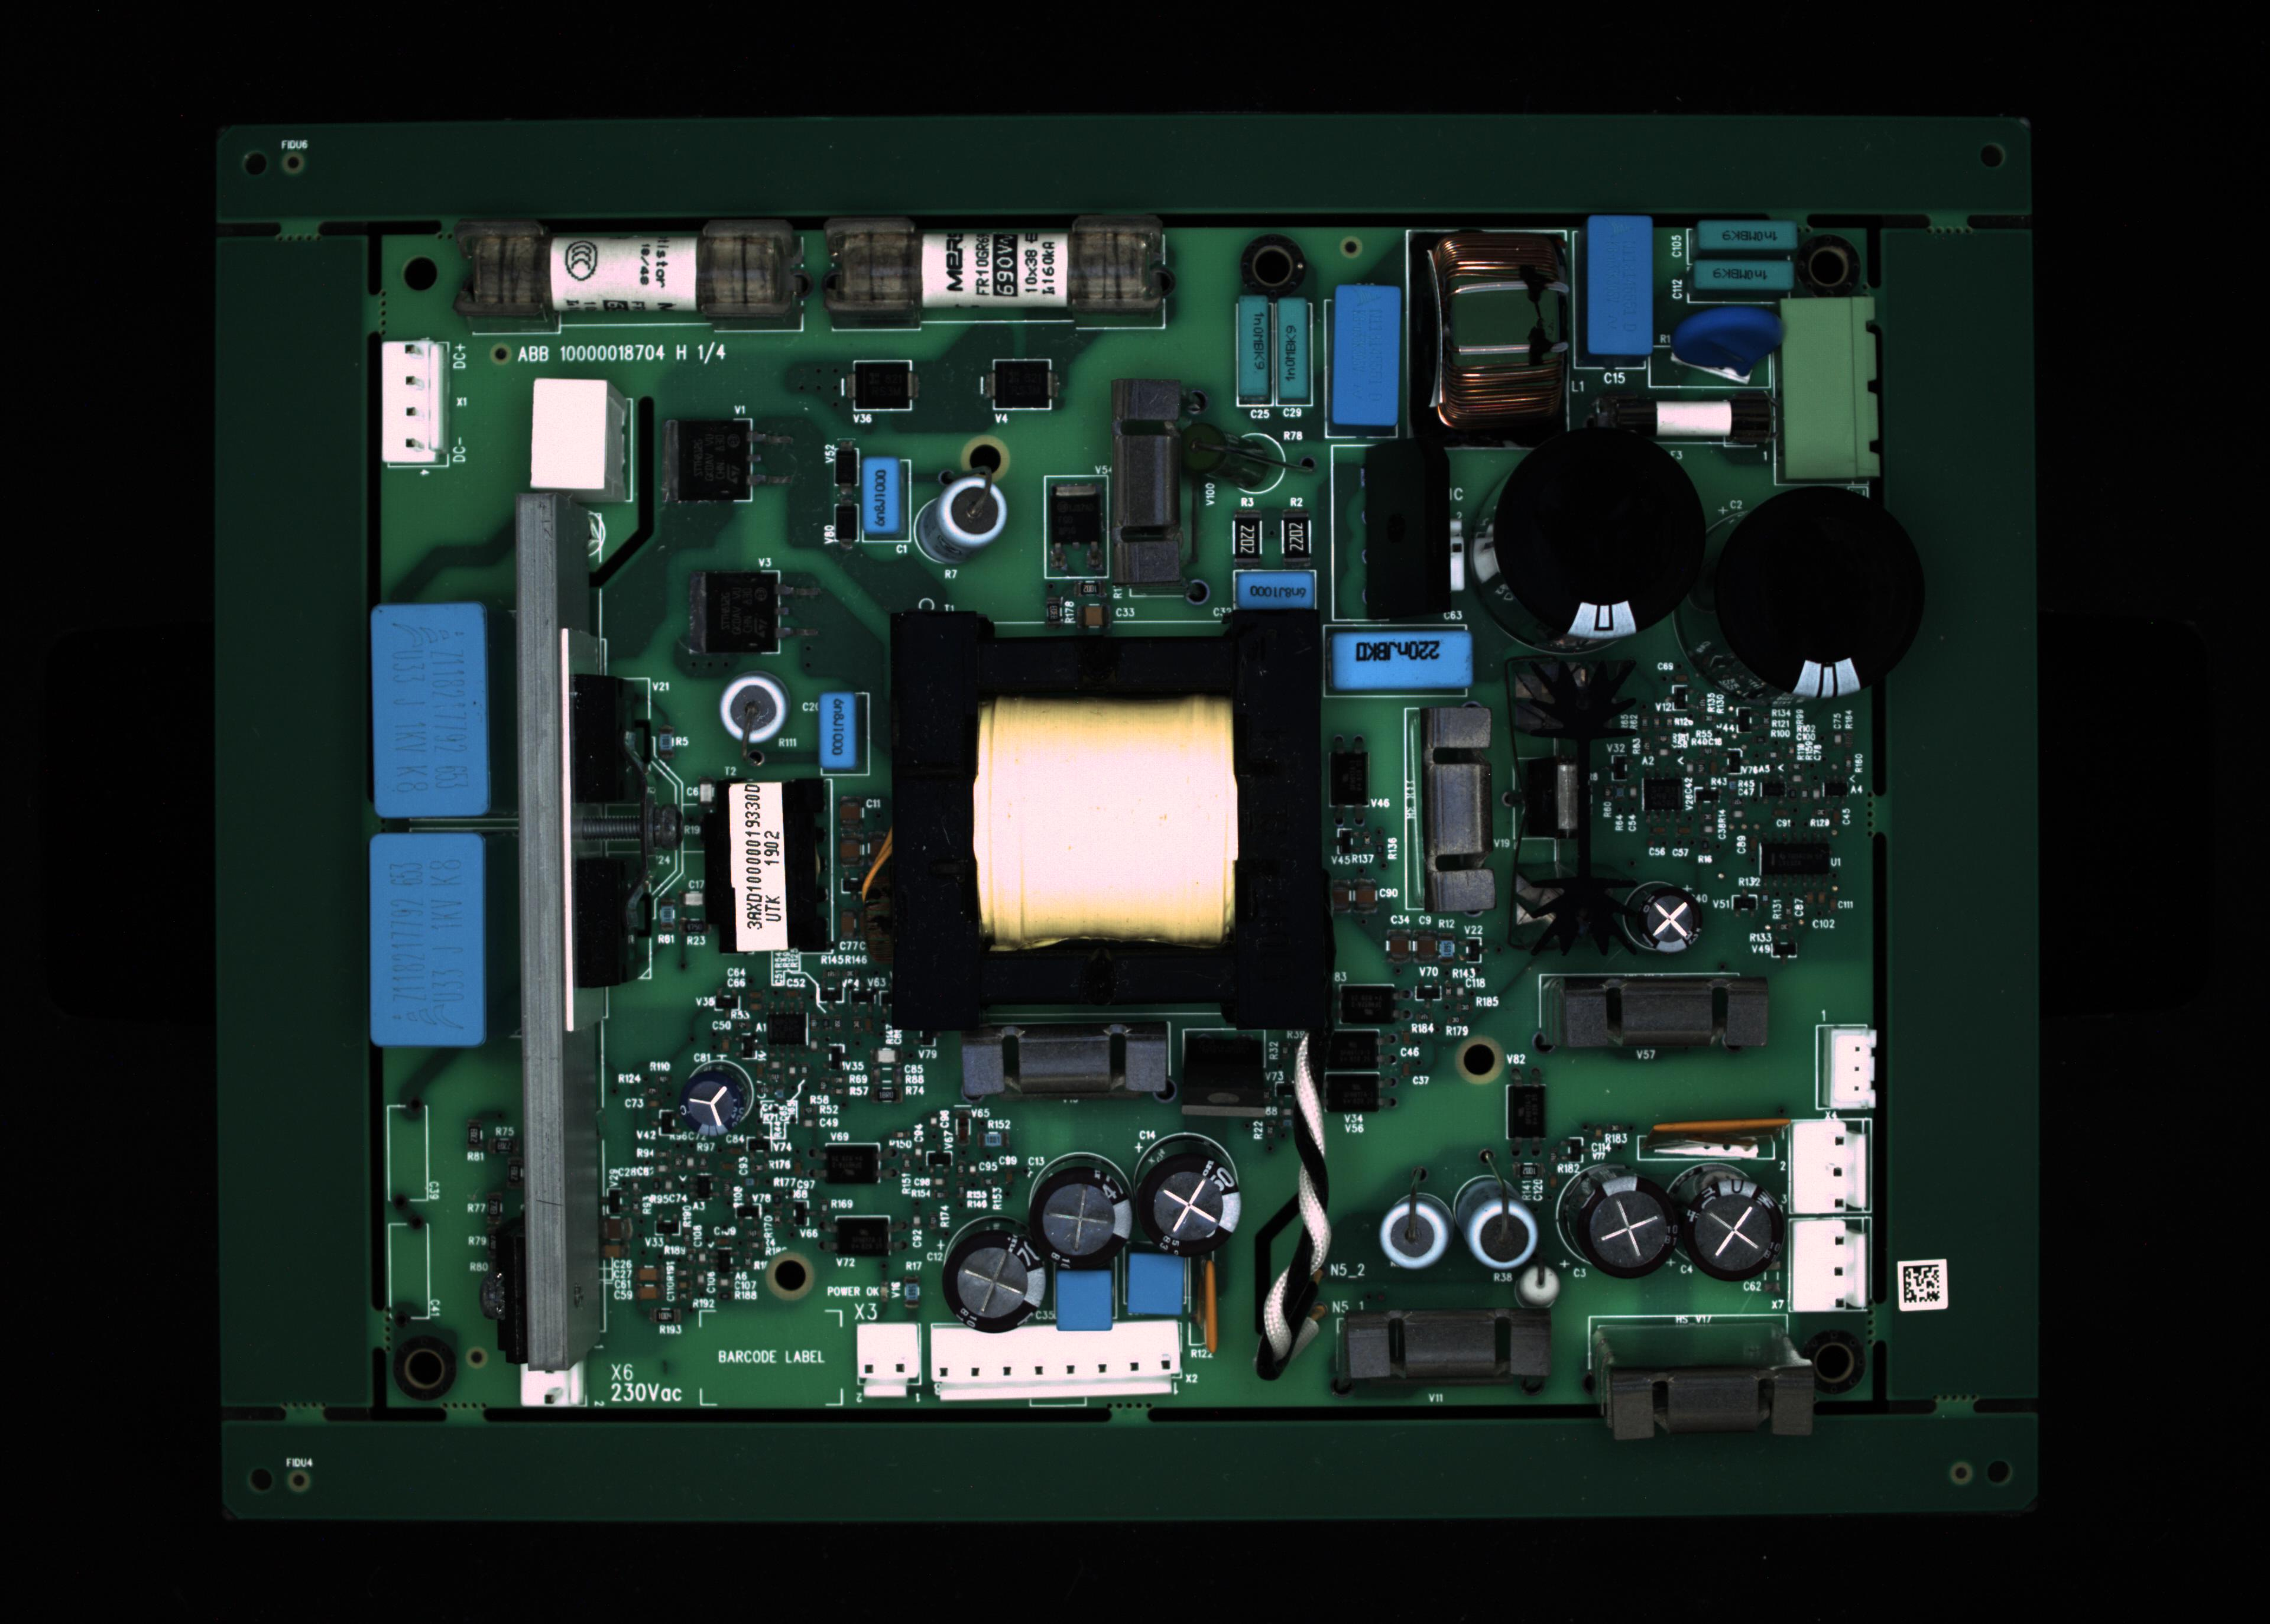10_p: (1648, 346, 1772, 394)
11_q: (1779, 299, 1880, 478)
12_r: (1591, 387, 1776, 455)
13_s: (380, 337, 447, 473)
14_t: (529, 380, 629, 503)
15_e: (855, 459, 907, 547)
16_k: (913, 480, 1008, 566)
17_u: (1117, 380, 1196, 603)
18_v: (1233, 569, 1317, 612)
19_w: (1333, 626, 1475, 689)
1_a: (455, 216, 807, 336)
20_f: (1368, 446, 1449, 617)
21_g: (1493, 429, 1709, 642)
22_g: (1718, 483, 1932, 698)
23_h: (369, 601, 489, 812)
24_h: (369, 830, 489, 1049)
25_f: (519, 1360, 586, 1408)
26_f: (860, 1323, 920, 1397)
27_x: (932, 1322, 1178, 1399)
28_i: (1132, 1142, 1245, 1250)
29_i: (1023, 1162, 1131, 1274)
2_a: (819, 216, 1175, 330)
30_i: (942, 1225, 1051, 1334)
31_j: (1050, 1267, 1120, 1339)
32_j: (1120, 1251, 1197, 1329)
33_e: (814, 692, 862, 775)
34_k: (1373, 1181, 1465, 1281)
35_k: (1456, 1178, 1542, 1271)
36_i: (1556, 1164, 1672, 1295)
37_i: (1681, 1169, 1786, 1281)
38_l: (1331, 1318, 1560, 1424)
39_l: (1597, 1366, 1832, 1439)
3_b: (1234, 295, 1270, 410)
40_l: (1539, 977, 1771, 1069)
41_y: (1407, 678, 1505, 919)
42_z: (1830, 1026, 1876, 1109)
43_m: (1793, 1120, 1866, 1216)
44_m: (1788, 1218, 1864, 1315)
45_i: (679, 1065, 756, 1142)
46_n: (1338, 982, 1396, 1030)
47_n: (811, 1142, 899, 1192)
48_n: (818, 1214, 911, 1265)
49_aa: (761, 1011, 814, 1056)
4_b: (1280, 299, 1317, 410)
50_n: (1321, 1030, 1377, 1070)
51_n: (1322, 1070, 1379, 1120)
52_ab: (1329, 740, 1377, 831)
53_ac: (1656, 1130, 1790, 1165)
54_ad: (1194, 1253, 1222, 1364)
55_l: (957, 1021, 1175, 1118)
56_ae: (1176, 1025, 1282, 1132)
57_af: (1509, 647, 1635, 951)
58_i: (1630, 884, 1706, 958)
59_o: (992, 359, 1051, 413)
5_c: (1329, 285, 1398, 424)
60_o: (855, 357, 909, 410)
6_ag: (1405, 232, 1572, 452)
7_c: (1582, 218, 1649, 357)
8_d: (1686, 227, 1792, 260)
9_d: (1684, 262, 1793, 308)
